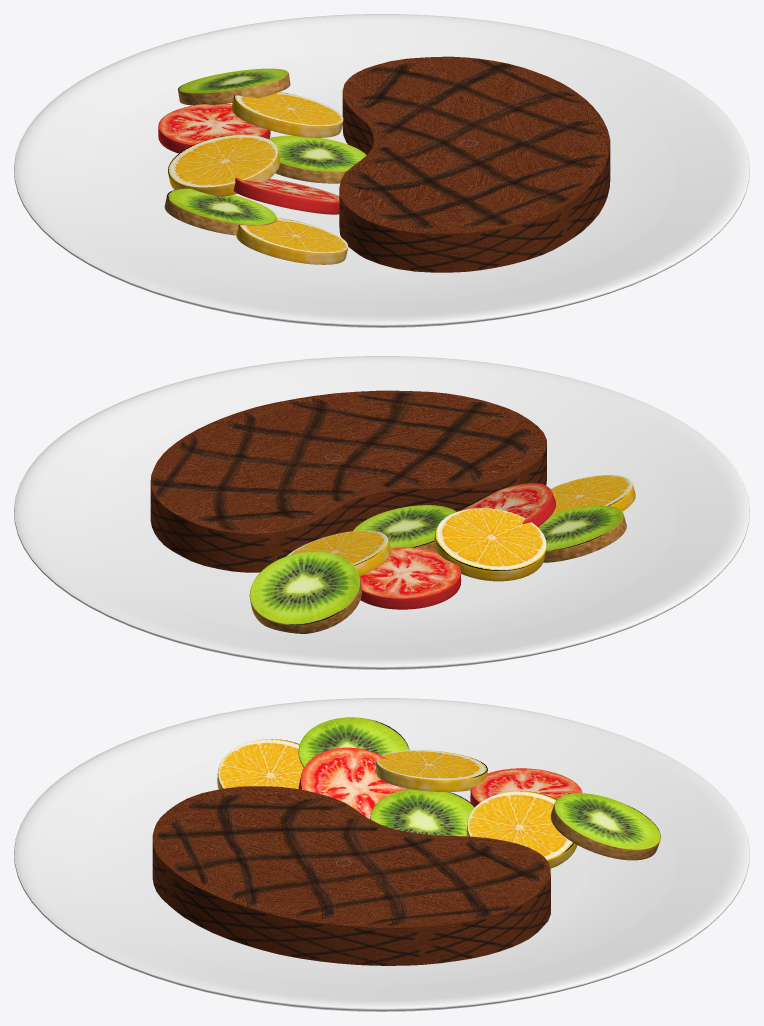
The model's file is steak1111.FBX.
The picture shows the model from 3 angles, top to bottom: view 1: azimuth 30°, elevation 25°; view 2: azimuth 150°, elevation 25°; view 3: azimuth 270°, elevation 25°; orthographic projection.
Parts seen in each view (by area): view 1: Line001, Box001, Cylinder004, Cylinder011, Cylinder012, Cylinder006, Cylinder005, Cylinder010, Cylinder013, Cylinder007; view 2: Line001, Box001, Cylinder013, Cylinder004, Cylinder010, Cylinder006, Cylinder005, Cylinder012, Cylinder011, Cylinder007; view 3: Line001, Box001, Cylinder013, Cylinder011, Cylinder007, Cylinder004, Cylinder005, Cylinder012, Cylinder006, Cylinder010.
Boxes of the visible parts, x1=… form: Line001: x1=14, y1=14, x2=749, y2=327; Box001: x1=339, y1=56, x2=610, y2=272; Cylinder004: x1=168, y1=134, x2=279, y2=196; Cylinder011: x1=231, y1=92, x2=343, y2=137; Cylinder012: x1=236, y1=218, x2=348, y2=264; Cylinder006: x1=164, y1=188, x2=276, y2=235; Cylinder005: x1=268, y1=135, x2=366, y2=183; Cylinder010: x1=158, y1=103, x2=270, y2=153; Cylinder013: x1=178, y1=68, x2=290, y2=105; Cylinder007: x1=233, y1=177, x2=339, y2=214; Line001: x1=14, y1=356, x2=749, y2=669; Box001: x1=150, y1=390, x2=546, y2=572; Cylinder013: x1=249, y1=551, x2=361, y2=633; Cylinder004: x1=434, y1=508, x2=546, y2=581; Cylinder010: x1=359, y1=547, x2=461, y2=609; Cylinder006: x1=538, y1=505, x2=626, y2=562; Cylinder005: x1=353, y1=505, x2=456, y2=550; Cylinder012: x1=550, y1=475, x2=635, y2=514; Cylinder011: x1=286, y1=530, x2=391, y2=575; Cylinder007: x1=462, y1=483, x2=555, y2=526; Line001: x1=14, y1=698, x2=749, y2=1011; Box001: x1=152, y1=786, x2=550, y2=965; Cylinder013: x1=550, y1=793, x2=660, y2=860; Cylinder011: x1=466, y1=791, x2=577, y2=868; Cylinder007: x1=298, y1=747, x2=408, y2=818; Cylinder004: x1=376, y1=750, x2=487, y2=791; Cylinder005: x1=370, y1=789, x2=474, y2=836; Cylinder012: x1=217, y1=739, x2=303, y2=789; Cylinder006: x1=298, y1=717, x2=409, y2=767; Cylinder010: x1=470, y1=768, x2=582, y2=806.
Bounding box in the file's own units: 2.25 × 0.3222 × 2.25.
Materials: 5 (5 with a texture image).
